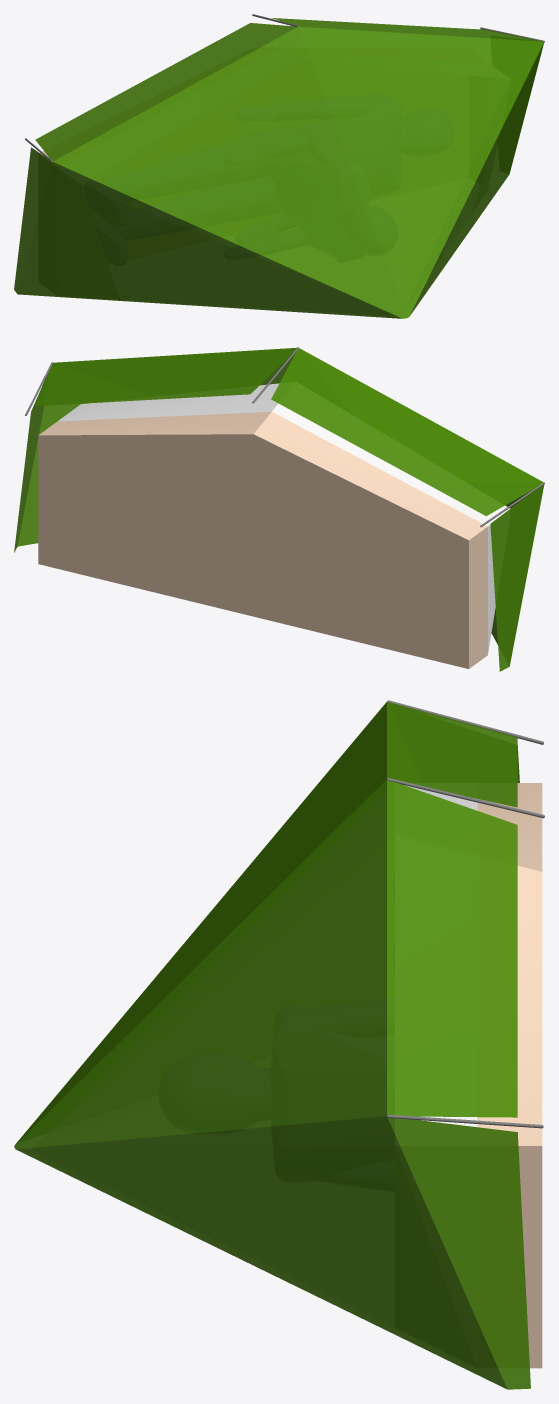
The model's file is Tent_Delta_section.glb.
3 renders of one model, top to bottom at view 1: azimuth 30°, elevation 25°; view 2: azimuth 150°, elevation 25°; view 3: azimuth 270°, elevation 25°, orthographic. The views are drawn at different scales.
Visible parts, largest first — view 1: Tent Delta-1; view 2: Tent Delta-1; view 3: Tent Delta-1.
Boxes of the visible parts, x1,y1,x2,y2 form: Tent Delta-1: (14,14,544,318); Tent Delta-1: (14,347,544,671); Tent Delta-1: (14,700,544,1389).
Size of the model in its own units: 2.41 by 1.1 by 1.3.
